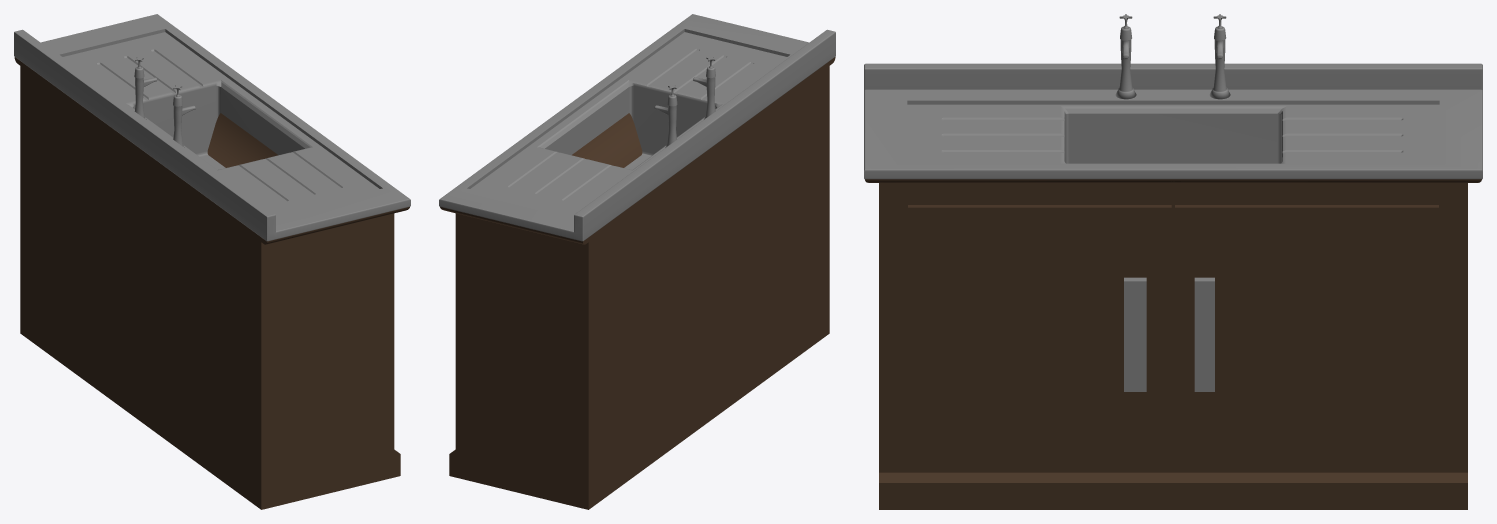
Rendered from sink.fbx.
The picture shows the model from 3 angles, left to right: view 1: azimuth 30°, elevation 25°; view 2: azimuth 150°, elevation 25°; view 3: azimuth 270°, elevation 25°; orthographic projection. The views are drawn at different scales.
Visible parts, largest first — view 1: polySurface144; view 2: polySurface144; view 3: polySurface144.
Part boxes in pixels (box(x1,y1,x2,y2)): polySurface144: box(14, 14, 410, 509); polySurface144: box(439, 14, 835, 509); polySurface144: box(864, 14, 1482, 509).
Size of the model in its own units: 0.6907 by 1.58 by 2.1.
